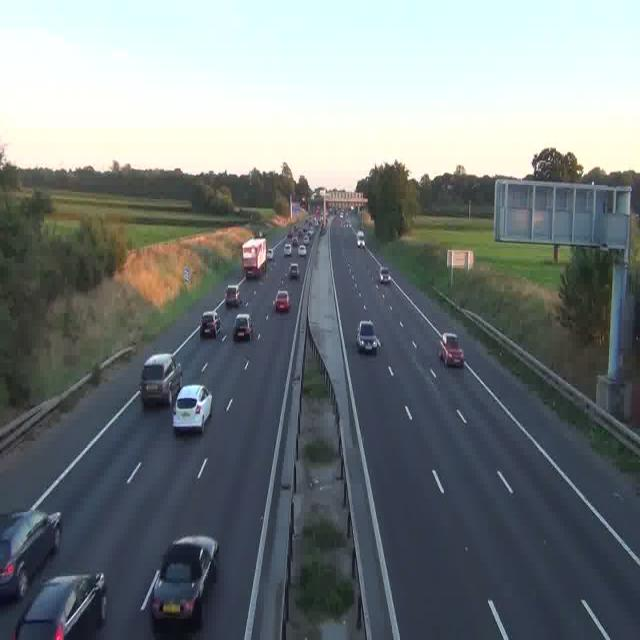car: (149, 536, 219, 632), (11, 571, 106, 640), (0, 510, 62, 601), (140, 353, 180, 408), (172, 384, 212, 433), (440, 332, 464, 366), (357, 320, 378, 353), (200, 310, 222, 339), (233, 313, 253, 340), (224, 284, 242, 305), (274, 291, 290, 313), (378, 268, 390, 284), (288, 264, 300, 280), (299, 244, 307, 257), (284, 244, 292, 257), (304, 234, 312, 245), (286, 230, 292, 241)
truck: (243, 238, 268, 278), (356, 229, 364, 248)
